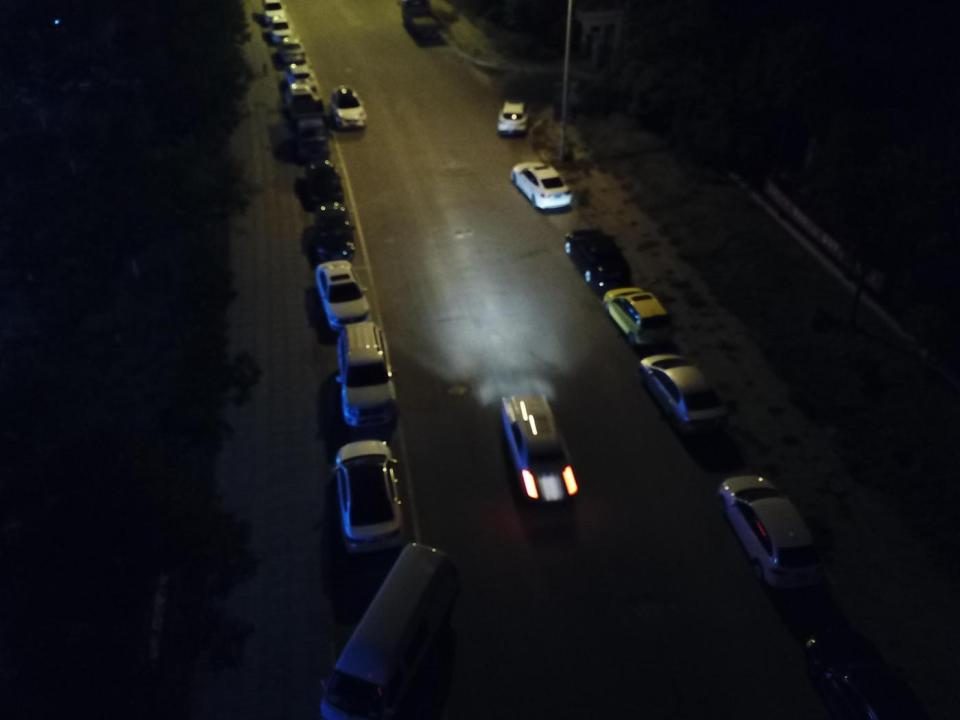car: (714, 471, 828, 592), (798, 624, 937, 720), (501, 386, 582, 501), (329, 436, 409, 552), (328, 320, 410, 429), (640, 353, 732, 438), (562, 226, 638, 290), (603, 284, 674, 349), (314, 256, 372, 333), (508, 158, 575, 210), (311, 200, 361, 264), (301, 158, 344, 204), (330, 83, 368, 130), (281, 59, 318, 92), (499, 101, 532, 136), (287, 84, 318, 111), (277, 36, 306, 61), (270, 15, 294, 44), (262, 2, 288, 25)
truck: (281, 98, 338, 161), (401, 0, 454, 40)
van: (314, 537, 466, 720)
